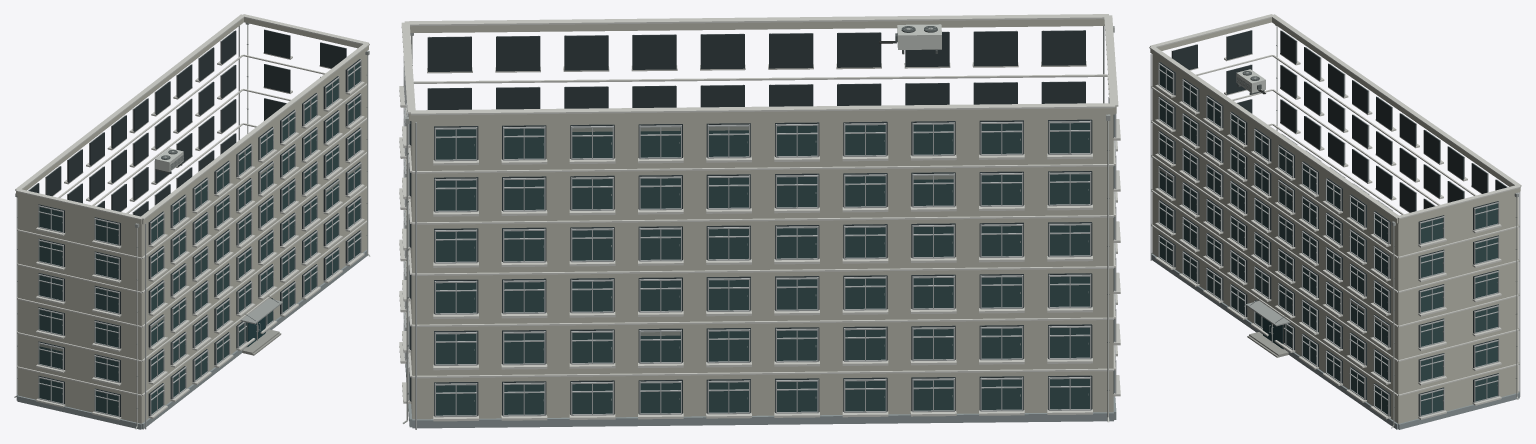
The model's file is osm_way_225265342.glb.
The picture shows the model from 3 angles, left to right: view 1: azimuth 30°, elevation 25°; view 2: azimuth 150°, elevation 25°; view 3: azimuth 270°, elevation 25°; orthographic projection. The views are drawn at different scales.
Visible parts, largest first — view 1: Windows and facade details | osm_way_225265342, Architecture | osm_way_225265342, Roof services | osm_way_225265342, EXTERIOR::osm_way_225265342::rainwater and roof service deta, EXTERIOR::osm_way_225265342::inferred entry doors canopy and; view 2: Windows and facade details | osm_way_225265342, Architecture | osm_way_225265342, Roof services | osm_way_225265342, EXTERIOR::osm_way_225265342::rainwater and roof service deta, EXTERIOR::osm_way_225265342::native pane seals and hardware; view 3: Windows and facade details | osm_way_225265342, Architecture | osm_way_225265342, Roof services | osm_way_225265342, EXTERIOR::osm_way_225265342::rainwater and roof service deta, EXTERIOR::osm_way_225265342::inferred entry doors canopy and.
Boxes of the visible parts, bbox=[...] form: Windows and facade details | osm_way_225265342: bbox=[28, 26, 364, 429]; Architecture | osm_way_225265342: bbox=[16, 18, 368, 429]; Roof services | osm_way_225265342: bbox=[15, 14, 369, 219]; EXTERIOR::osm_way_225265342::rainwater and roof service deta: bbox=[14, 23, 370, 429]; EXTERIOR::osm_way_225265342::inferred entry doors canopy and: bbox=[240, 296, 282, 355]; Windows and facade details | osm_way_225265342: bbox=[399, 26, 1120, 429]; Architecture | osm_way_225265342: bbox=[405, 19, 1116, 428]; Roof services | osm_way_225265342: bbox=[401, 14, 1118, 115]; EXTERIOR::osm_way_225265342::rainwater and roof service deta: bbox=[402, 24, 1114, 423]; EXTERIOR::osm_way_225265342::native pane seals and hardware: bbox=[474, 126, 1088, 401]; Windows and facade details | osm_way_225265342: bbox=[1150, 30, 1520, 419]; Architecture | osm_way_225265342: bbox=[1150, 18, 1520, 429]; Roof services | osm_way_225265342: bbox=[1149, 14, 1521, 219]; EXTERIOR::osm_way_225265342::rainwater and roof service deta: bbox=[1236, 25, 1518, 428]; EXTERIOR::osm_way_225265342::inferred entry doors canopy and: bbox=[1245, 298, 1290, 357].
Bounding box in the file's own units: 40.72 × 20.58 × 31.37.
